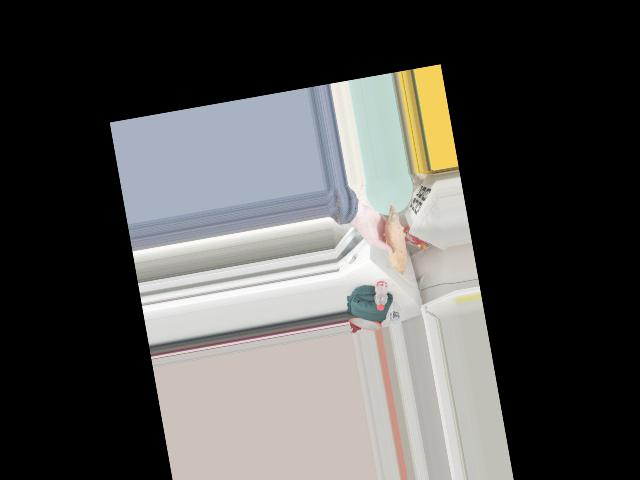sweet_potato: (382, 211, 409, 273)
